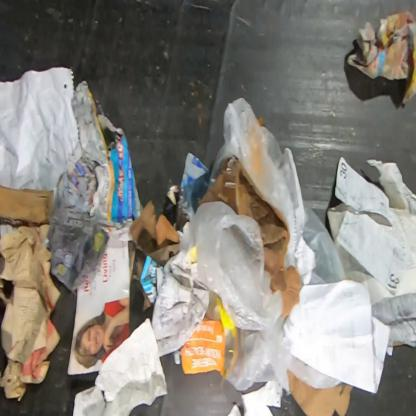cardboard: (57, 79, 144, 230), (286, 369, 354, 415), (0, 184, 55, 228)
soft_plastic: (178, 200, 342, 396), (212, 97, 306, 271), (304, 206, 374, 285)
